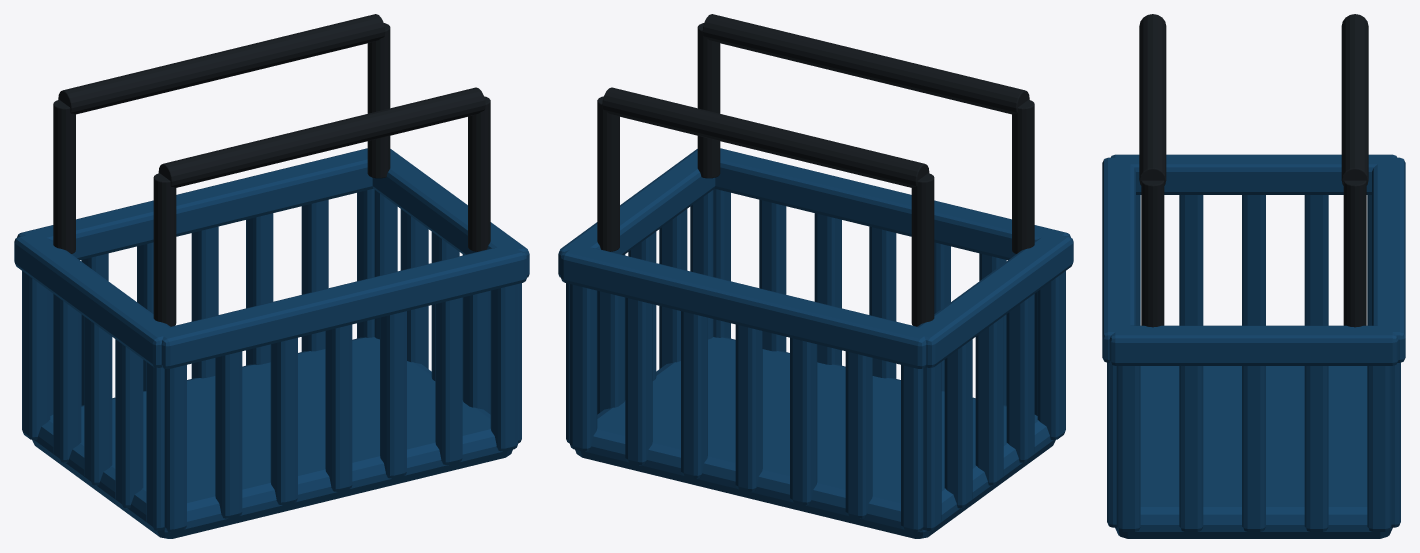
The picture shows the model from 3 angles, left to right: view 1: azimuth 30°, elevation 25°; view 2: azimuth 150°, elevation 25°; view 3: azimuth 270°, elevation 25°; orthographic projection.
Visible parts, largest first — view 1: BASKET_SlottedWalls, BASKET_Base, HANDLE_Grip, HANDLE_Grip.001, HANDLE_Upright, HANDLE_Upright.002, HANDLE_Upright.001, HANDLE_Upright.003; view 2: BASKET_SlottedWalls, BASKET_Base, HANDLE_Grip, HANDLE_Grip.001, HANDLE_Upright.002, HANDLE_Upright, HANDLE_Upright.003, HANDLE_Upright.001; view 3: BASKET_SlottedWalls, BASKET_Base, HANDLE_Grip, HANDLE_Grip.001, HANDLE_Upright.001, HANDLE_Upright.003.
Part boxes in pixels (bbox=[...]): BASKET_SlottedWalls: bbox=[14, 148, 529, 532]; BASKET_Base: bbox=[32, 337, 512, 538]; HANDLE_Grip: bbox=[158, 87, 485, 187]; HANDLE_Grip.001: bbox=[58, 14, 385, 114]; HANDLE_Upright: bbox=[153, 173, 176, 326]; HANDLE_Upright.002: bbox=[53, 99, 75, 253]; HANDLE_Upright.001: bbox=[468, 96, 490, 251]; HANDLE_Upright.003: bbox=[367, 23, 390, 178]; BASKET_SlottedWalls: bbox=[558, 148, 1073, 532]; BASKET_Base: bbox=[575, 337, 1055, 538]; HANDLE_Grip: bbox=[702, 14, 1029, 114]; HANDLE_Grip.001: bbox=[602, 87, 929, 187]; HANDLE_Upright.002: bbox=[911, 173, 934, 326]; HANDLE_Upright: bbox=[1012, 99, 1034, 253]; HANDLE_Upright.003: bbox=[597, 96, 619, 251]; HANDLE_Upright.001: bbox=[697, 23, 720, 178]; BASKET_SlottedWalls: bbox=[1102, 154, 1405, 531]; BASKET_Base: bbox=[1115, 366, 1392, 538]; HANDLE_Grip: bbox=[1139, 14, 1166, 185]; HANDLE_Grip.001: bbox=[1341, 14, 1368, 185]; HANDLE_Upright.001: bbox=[1141, 180, 1164, 327]; HANDLE_Upright.003: bbox=[1343, 180, 1366, 327].
Size of the model in its own units: 0.455 by 0.419 by 0.315.
